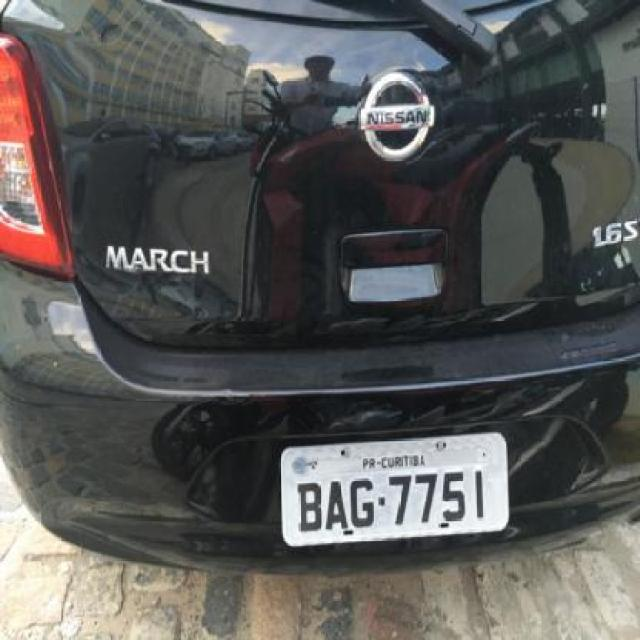old_plate: (276, 425, 516, 553)
